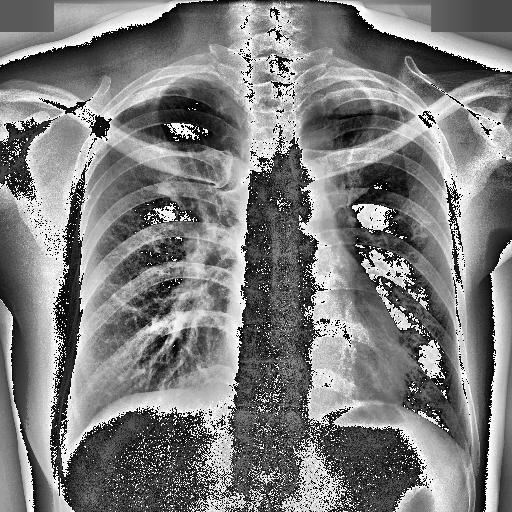11- Pleural thickening: (292, 72, 423, 116), (110, 72, 222, 114), (299, 82, 412, 118), (302, 78, 406, 116), (128, 76, 220, 104), (125, 72, 186, 108)
13- Pulmonary fibrosis: (399, 193, 435, 239), (394, 208, 430, 239)
